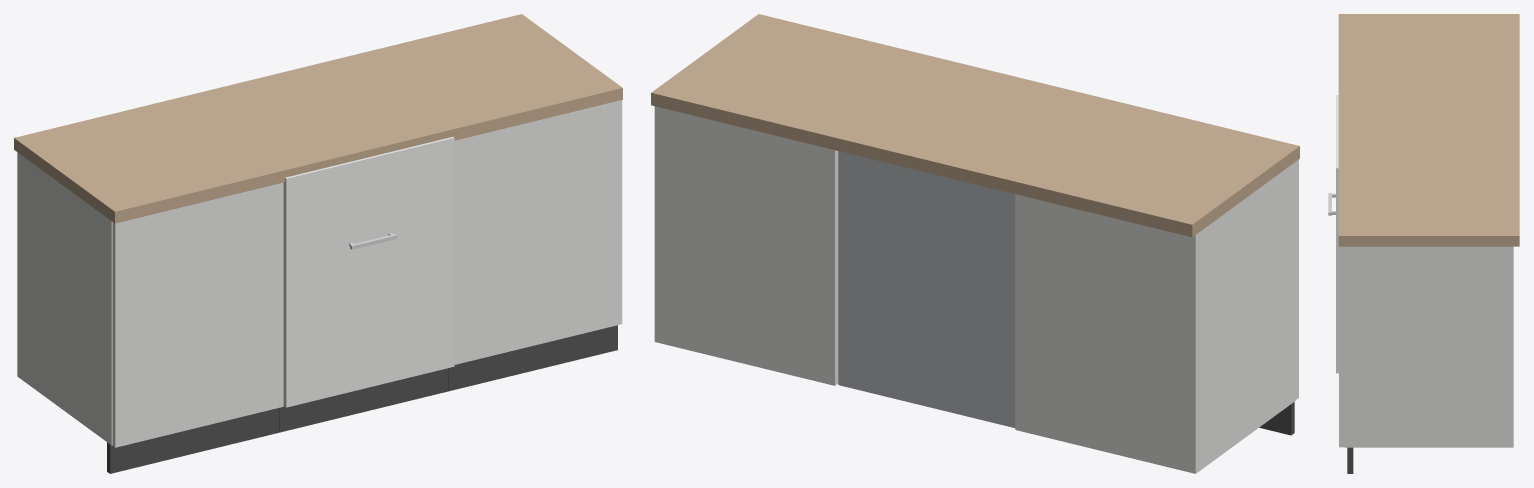
3 views of the same model, side by side, from view 1: azimuth 30°, elevation 25°; view 2: azimuth 150°, elevation 25°; view 3: azimuth 270°, elevation 25° (orthographic). The views are drawn at different scales.
Visible parts, largest first — view 1: Cabinets, Worktop, Door, Plinth; view 2: Cabinets, Worktop, Tub; view 3: Worktop, Cabinets, Door.
Part boxes in pixels (box(x1,y1,x2,y2)): Cabinets: box(17, 100, 622, 473); Worktop: box(14, 14, 622, 223); Door: box(283, 137, 454, 407); Plinth: box(279, 368, 448, 432); Cabinets: box(654, 106, 1298, 473); Worktop: box(651, 14, 1299, 237); Tub: box(838, 151, 1015, 427); Worktop: box(1338, 14, 1519, 246); Cabinets: box(1339, 246, 1513, 473); Door: box(1328, 95, 1338, 373).
Size of the model in its own units: 1.8 by 0.9 by 0.655.
